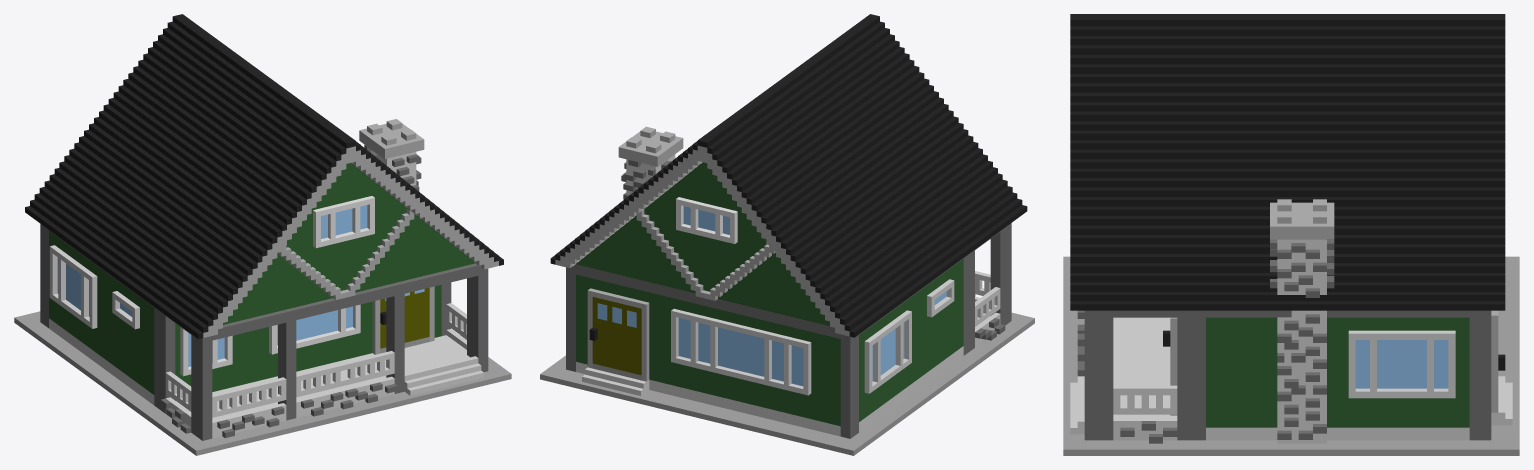
Rendered from obj_house3b.obj.
The picture shows the model from 3 angles, left to right: view 1: azimuth 30°, elevation 25°; view 2: azimuth 150°, elevation 25°; view 3: azimuth 270°, elevation 25°; orthographic projection. The views are drawn at different scales.
Bounding box in the file's own units: 6.4 × 5.3 × 6.4.
Materials: 1 (1 with a texture image).
